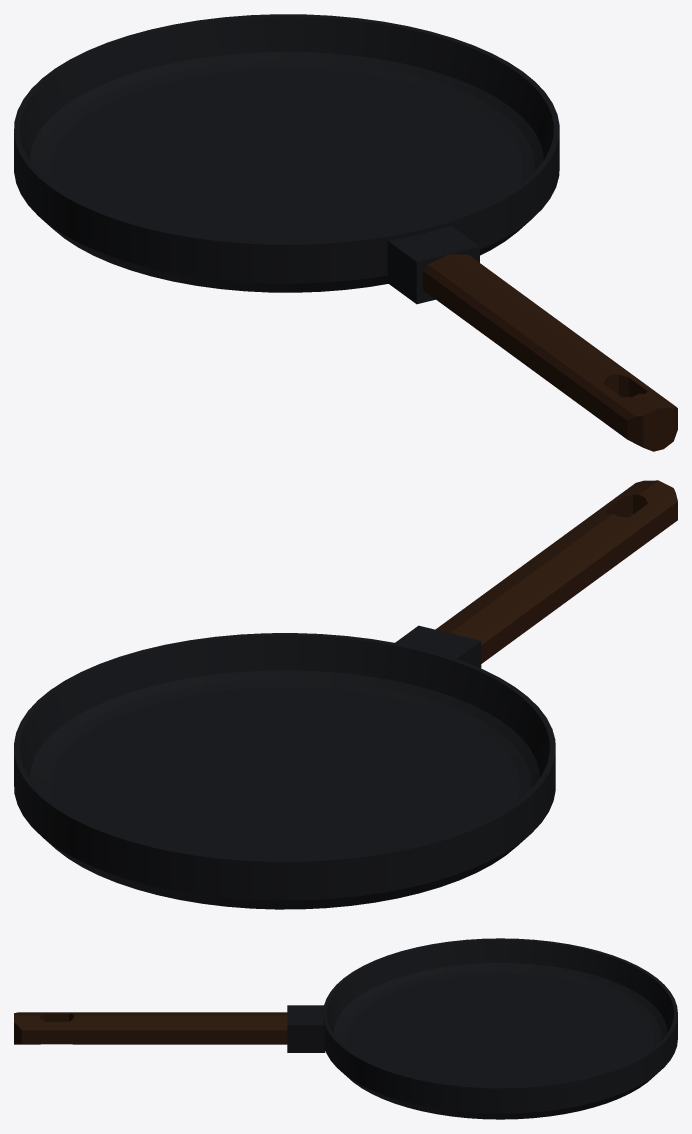
3 renders of one model, top to bottom at view 1: azimuth 30°, elevation 25°; view 2: azimuth 150°, elevation 25°; view 3: azimuth 270°, elevation 25°, orthographic. The views are drawn at different scales.
Parts seen in each view (by area): view 1: pan_casting, grip, socket; view 2: pan_casting, grip, socket; view 3: pan_casting, grip, socket.
Boxes of the visible parts, left/top/right/bottom form: pan_casting: left=14, top=14, right=559, bottom=292; grip: left=423, top=254, right=677, bottom=451; socket: left=387, top=225, right=479, bottom=304; pan_casting: left=14, top=633, right=555, bottom=909; grip: left=435, top=480, right=677, bottom=663; socket: left=395, top=625, right=481, bottom=668; pan_casting: left=323, top=938, right=677, bottom=1119; grip: left=14, top=1012, right=287, bottom=1044; socket: left=287, top=1005, right=325, bottom=1052.
Size of the model in its own units: 0.187 by 0.0267 by 0.3497.
